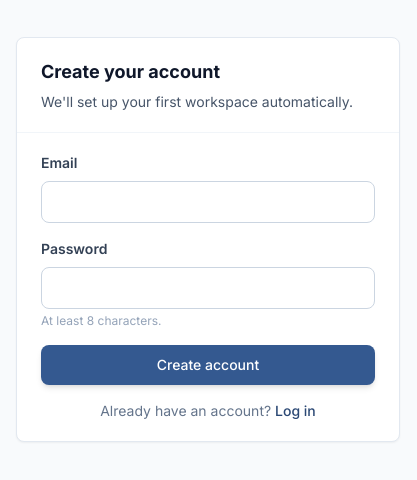
Test case: RegisterPage › shows a clear message when the email is already taken
The image size is (417, 480).
In the field labelled "Email": (208, 202) [41, 180, 375, 222], type "existing@example.com"
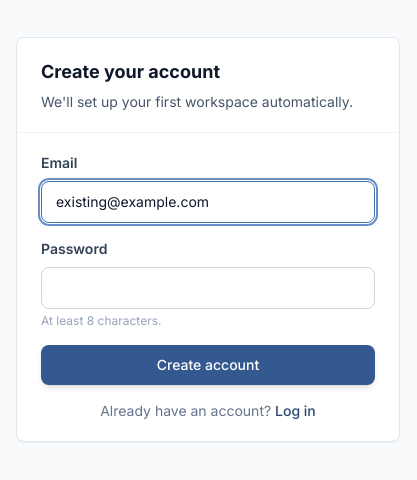
In the password field labelled "Password": (208, 288) [41, 266, 375, 308], type "a-secure-password-123"
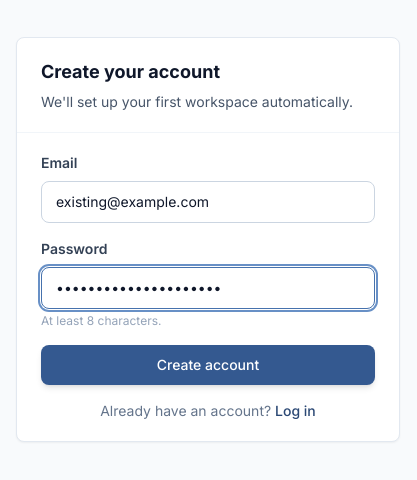
Click the button "Create account": (208, 364) [41, 344, 375, 384]
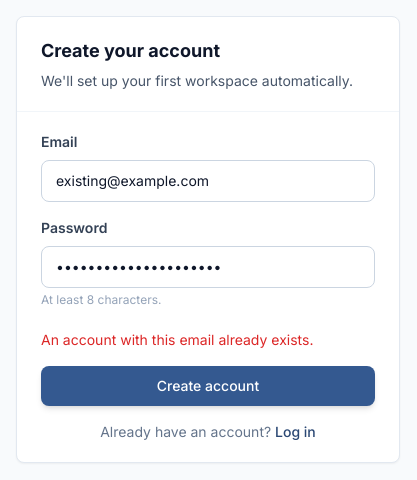
Expected: the text "An account with this email already exists." is shown, [41, 330, 314, 348]
